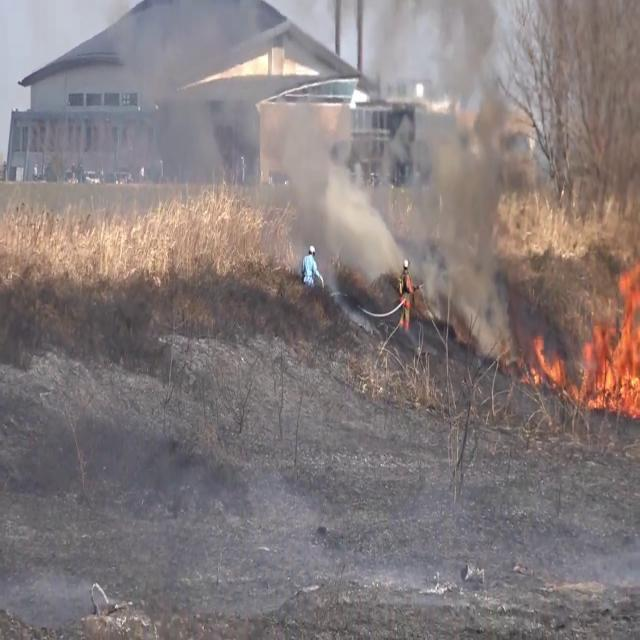Fire: (581, 260, 640, 416), (523, 333, 569, 398)
Smoke: (105, 0, 547, 294)
